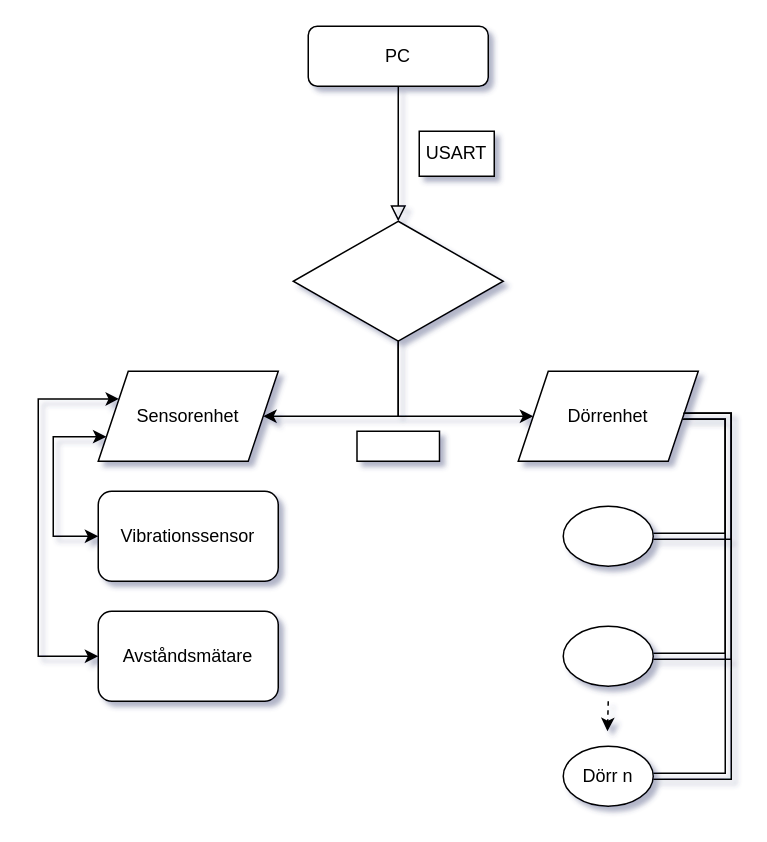
Some shapes in this 767 by 842 pixel diagram are drawn without their labels. Here are the shapes that lost their labels. From the top down, the box of each, then its label:
(292, 220, 503, 341): Centralenhet
(356, 430, 440, 461): CAN
(562, 505, 653, 566): Dörr 1
(562, 625, 653, 686): Dörr 2
